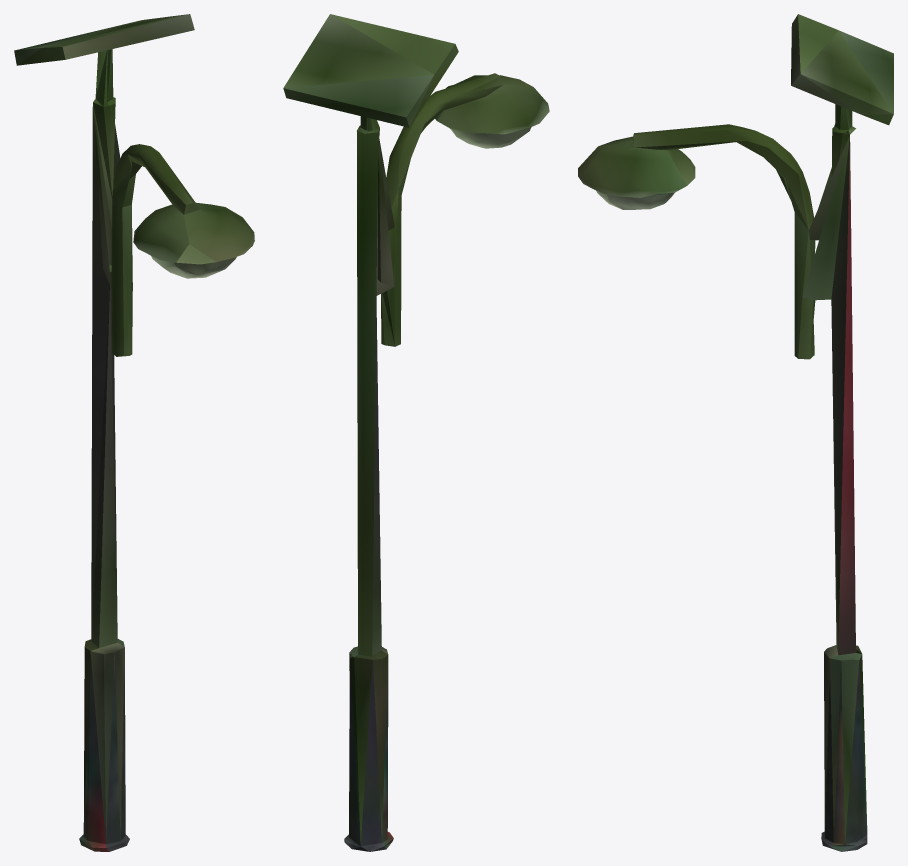
File: street-lamp.glb
The picture shows the model from 3 angles, left to right: view 1: azimuth 30°, elevation 25°; view 2: azimuth 150°, elevation 25°; view 3: azimuth 270°, elevation 25°; orthographic projection. The views are drawn at different scales.
Parts seen in each view (by area): view 1: Mesh_0.15535; view 2: Mesh_0.15535; view 3: Mesh_0.15535.
Part boxes in pixels (x1,y1,x2,y2): Mesh_0.15535: (14, 14, 254, 851); Mesh_0.15535: (283, 14, 549, 851); Mesh_0.15535: (578, 14, 893, 851).
Size of the model in its own units: 0.6824 by 4 by 1.44.
Materials: 1 (1 with a texture image).
